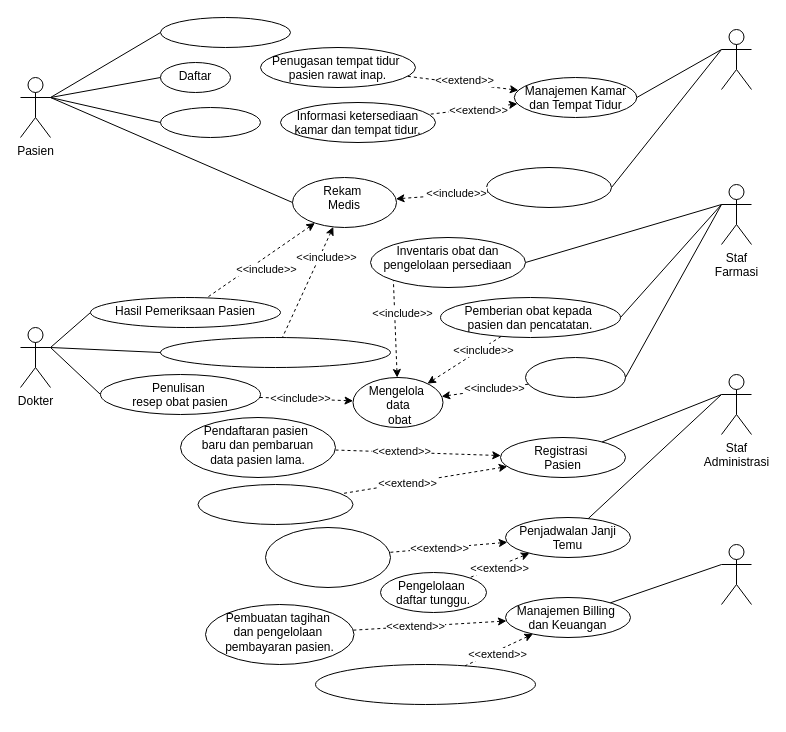
Image size: 786x732. Some labels were removed from this diagram. The shapes that lost their labels are listed below. From the top down, each one's centre as x and y in pixels, then its label:
At point 225,32: "Biaya Pengobatan".
At point 736,59: "Perawat".
At point 210,122: "Jadwal Dokter".
At point 549,187: "Pengelolaan Tindakan Medis".
At point 275,352: "Tampilan lengkap riwayat medis pasien".
At point 575,377: "Melihat resep obat pasien".
At point 275,504: "Pembuatan kartu identitas pasien.".
At point 327,557: "Penjadwalan janji temu untuk dokter dan spesialis.".
At point 736,574: "Staf Keuangan".
At point 425,684: "Laporan keuangan dan pelacakan pembayaran tertunda.".
